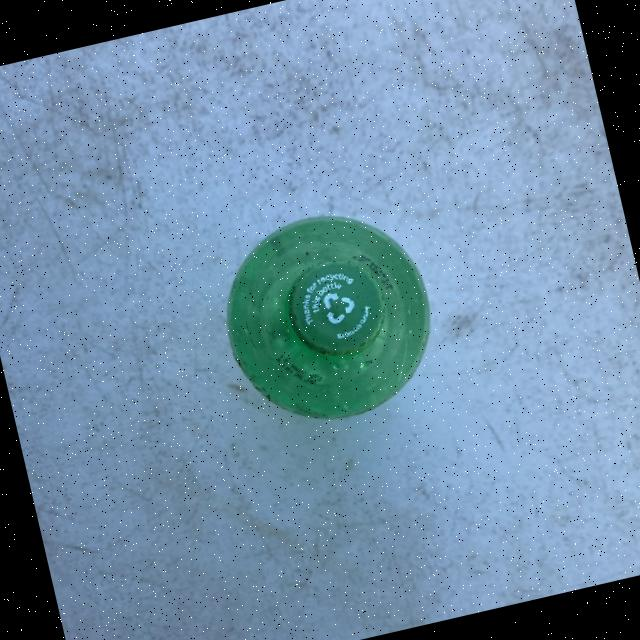plastic: (205, 193, 450, 439)
